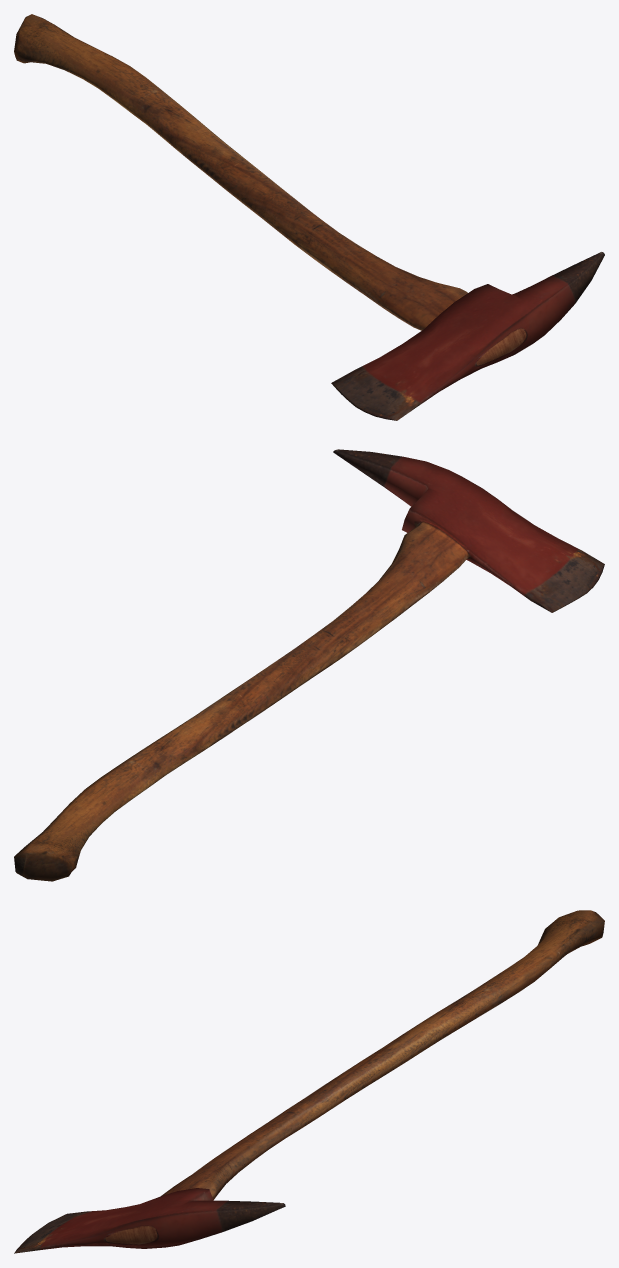
The model's file is fire_axe.glb.
The picture shows the model from 3 angles, top to bottom: view 1: azimuth 30°, elevation 25°; view 2: azimuth 150°, elevation 25°; view 3: azimuth 330°, elevation 25°; orthographic projection. The views are drawn at different scales.
Visible parts, largest first — view 1: Axe_lowpoly; view 2: Axe_lowpoly; view 3: Axe_lowpoly.
Part boxes in pixels (bbox=[...]): Axe_lowpoly: bbox=[14, 14, 604, 420]; Axe_lowpoly: bbox=[14, 449, 604, 881]; Axe_lowpoly: bbox=[14, 910, 604, 1253].
Bounding box in the file's own units: 27.84 × 9.36 × 91.05.
Materials: 1 (1 with a texture image).
